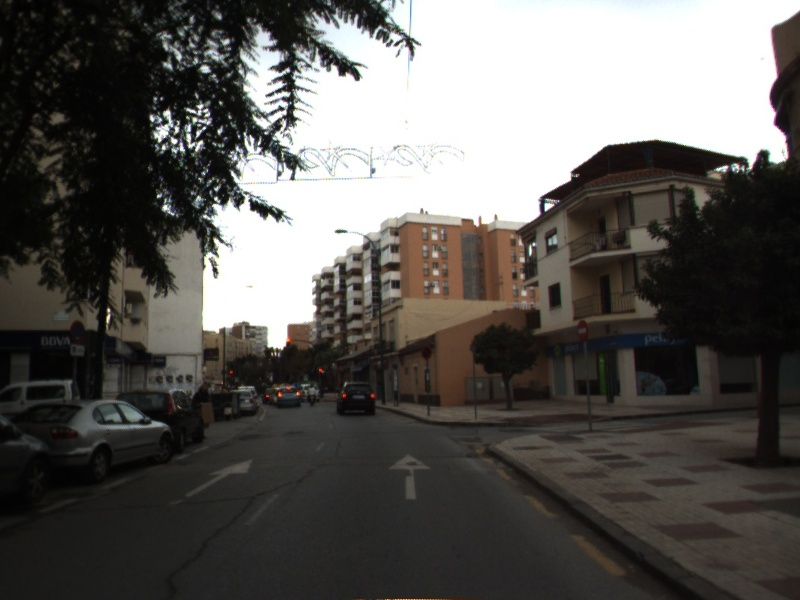STRAIGHT: (181, 456, 256, 500), (385, 451, 435, 502)
